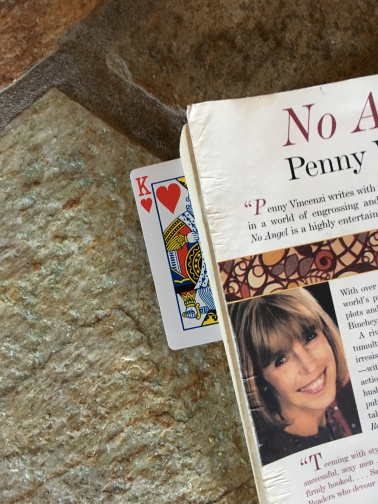king: (131, 156, 231, 349)
